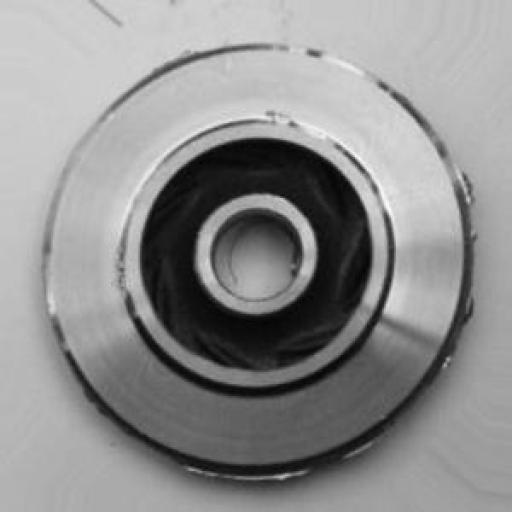defect: (32, 43, 488, 496)
